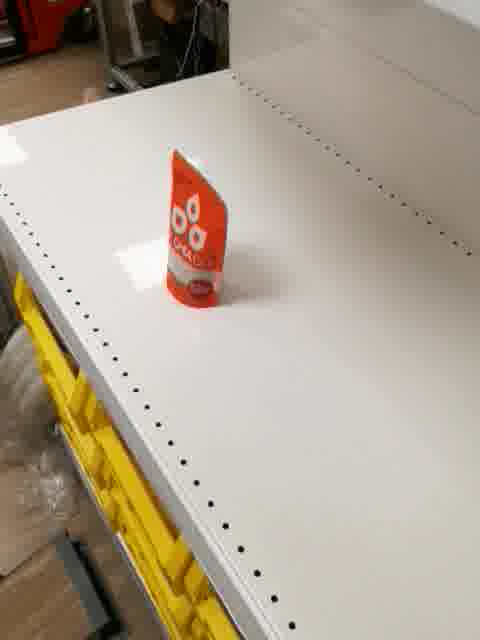whitechia: (161, 147, 238, 311)
